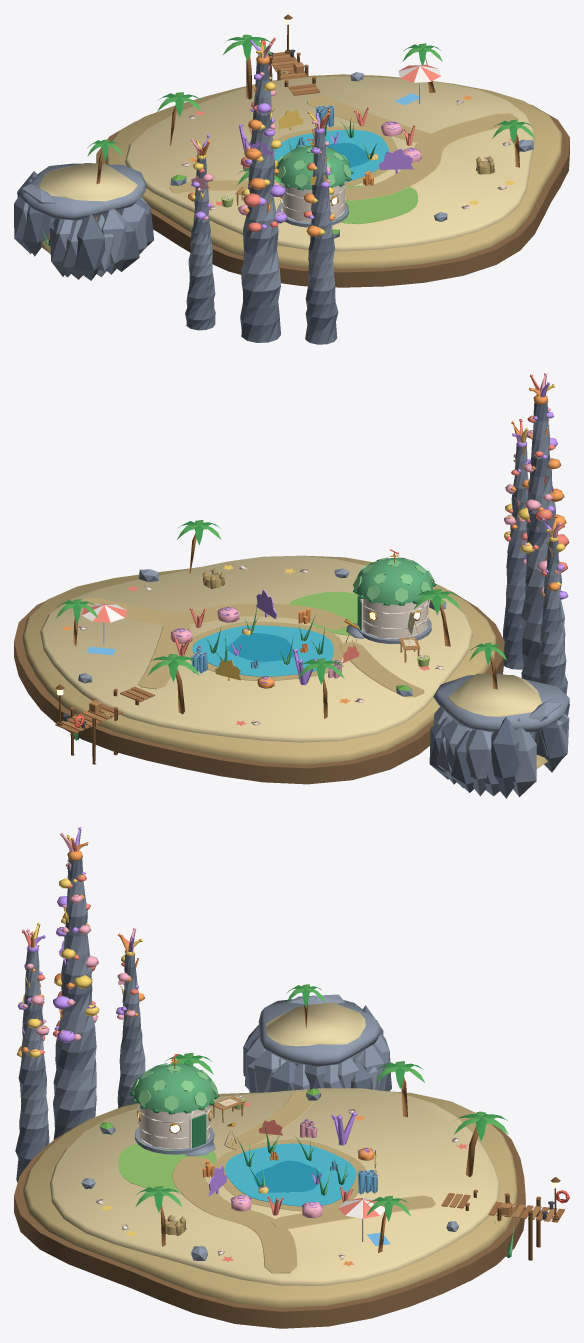
File: recife-media.glb
The picture shows the model from 3 angles, top to bottom: view 1: azimuth 30°, elevation 25°; view 2: azimuth 150°, elevation 25°; view 3: azimuth 270°, elevation 25°; orthographic projection. The views are drawn at different scales.
Visible parts, largest first — view 1: ilha-media; view 2: ilha-media; view 3: ilha-media.
Part boxes in pixels (x1=…): ilha-media: x1=14, y1=14, x2=569, y2=344; ilha-media: x1=14, y1=373, x2=569, y2=798; ilha-media: x1=14, y1=827, x2=569, y2=1328.
Size of the model in its own units: 37.1 by 20.3 by 31.29.
